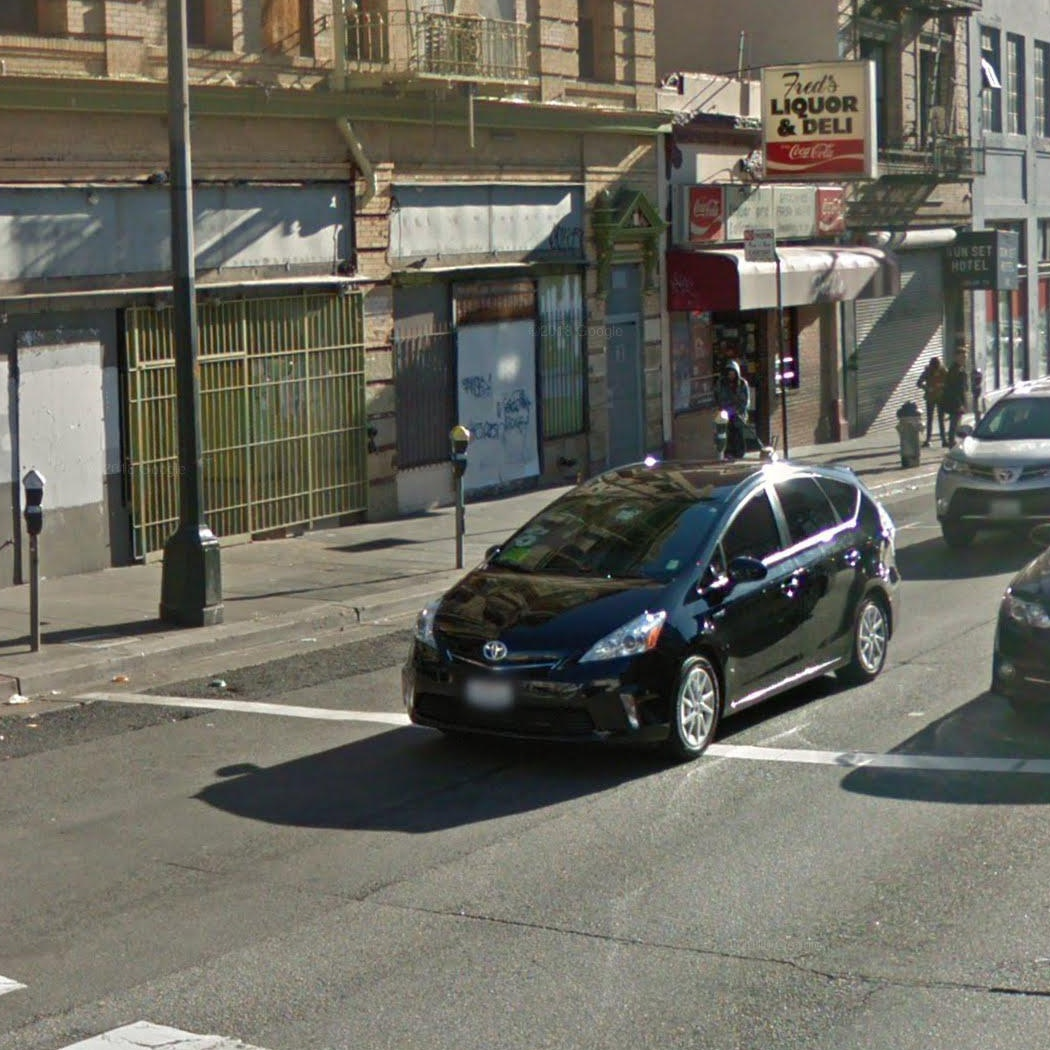No Parking: (743, 229, 776, 262)
